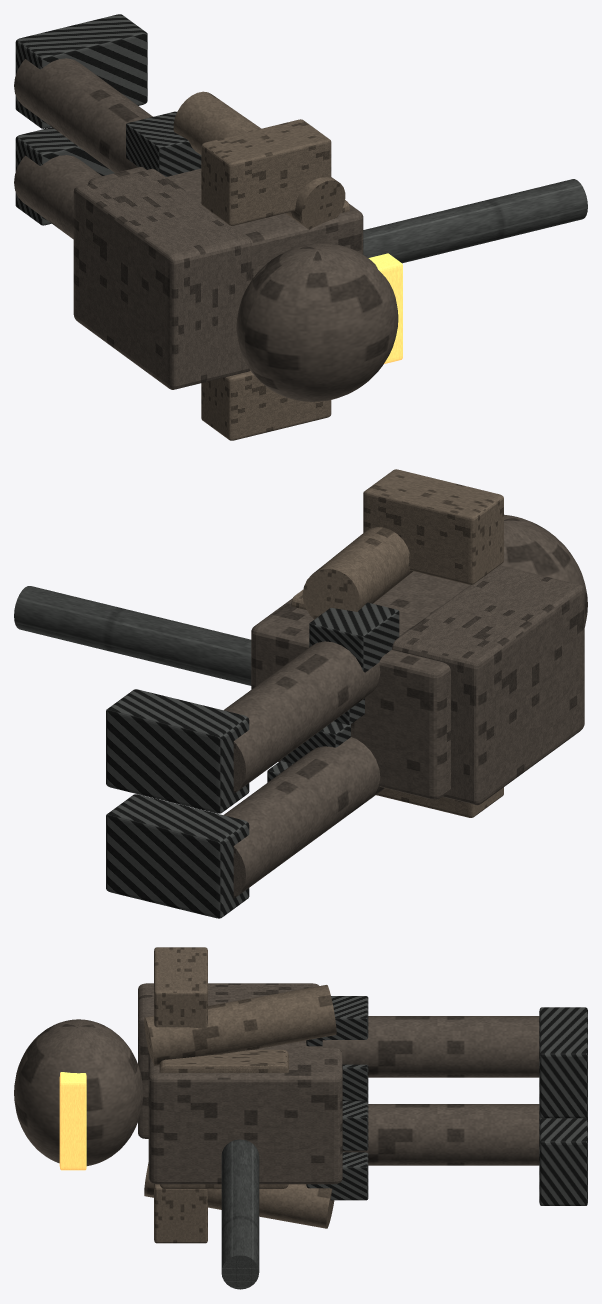
File: d-u03-dominion-sniper-lod0.glb
3 views of the same model, one above another, from view 1: azimuth 30°, elevation 25°; view 2: azimuth 150°, elevation 25°; view 3: azimuth 270°, elevation 25° (orthographic). The views are drawn at different scales.
Visible parts, largest first — view 1: soldier_0_backpack, soldier_0_helmet, soldier_0_shoulder_1, soldier_0_sniper, soldier_0_leg_1, soldier_0_boot_1, soldier_0_shoulder_-1, soldier_0_torso, soldier_0_arm_1, soldier_0_leg_-1, soldier_0_pouch_3, soldier_0_boot_-1 (+1 smaller); view 2: soldier_0_backpack, soldier_0_torso, soldier_0_boot_1, soldier_0_boot_-1, soldier_0_leg_-1, soldier_0_shoulder_1, soldier_0_leg_1, soldier_0_sniper, soldier_0_arm_1, soldier_0_pouch_3, soldier_0_helmet, soldier_0_shoulder_-1 (+1 smaller); view 3: soldier_0_torso, soldier_0_helmet, soldier_0_leg_1, soldier_0_leg_-1, soldier_0_arm_1, soldier_0_sniper, soldier_0_boot_1, soldier_0_shoulder_1, soldier_0_boot_-1, soldier_0_arm_-1, soldier_0_backpack, soldier_0_shoulder_-1 (+6 smaller).
Part boxes in pixels (box(x1,y1,x2,y2)): soldier_0_backpack: box(73, 168, 251, 389); soldier_0_helmet: box(236, 243, 398, 401); soldier_0_shoulder_1: box(201, 119, 331, 225); soldier_0_sniper: box(363, 179, 587, 263); soldier_0_leg_1: box(14, 58, 152, 172); soldier_0_boot_1: box(15, 14, 147, 128); soldier_0_shoulder_-1: box(201, 370, 331, 440); soldier_0_torso: box(88, 166, 363, 279); soldier_0_arm_1: box(173, 91, 345, 229); soldier_0_leg_-1: box(14, 155, 101, 239); soldier_0_pouch_3: box(126, 111, 201, 176); soldier_0_boot_-1: box(15, 127, 114, 225); soldier_0_backpack: box(392, 565, 584, 805); soldier_0_torso: box(251, 571, 469, 799); soldier_0_boot_1: box(106, 689, 249, 813); soldier_0_boot_-1: box(106, 794, 249, 918); soldier_0_leg_-1: box(223, 737, 384, 898); soldier_0_shoulder_1: box(363, 469, 503, 584); soldier_0_leg_1: box(224, 641, 380, 793); soldier_0_sniper: box(14, 586, 251, 685); soldier_0_arm_1: box(302, 527, 412, 619); soldier_0_pouch_3: box(309, 602, 399, 672); soldier_0_helmet: box(500, 514, 587, 627); soldier_0_shoulder_-1: box(376, 787, 503, 817); soldier_0_torso: box(148, 1040, 342, 1184); soldier_0_helmet: box(14, 1019, 143, 1165); soldier_0_leg_1: box(322, 1016, 539, 1077); soldier_0_leg_-1: box(342, 1104, 539, 1165); soldier_0_arm_1: box(144, 985, 336, 1065); soldier_0_sniper: box(221, 1139, 259, 1289); soldier_0_boot_1: box(539, 1007, 587, 1118); soldier_0_shoulder_1: box(154, 947, 207, 1028); soldier_0_boot_-1: box(539, 1115, 587, 1205); soldier_0_arm_-1: box(144, 1162, 334, 1228); soldier_0_backpack: box(138, 983, 318, 1138); soldier_0_shoulder_-1: box(154, 1184, 207, 1243).
Size of what is drawn, in the model's own units: 1.73 by 0.9946 by 2.04.
5 materials, 5 textured.
